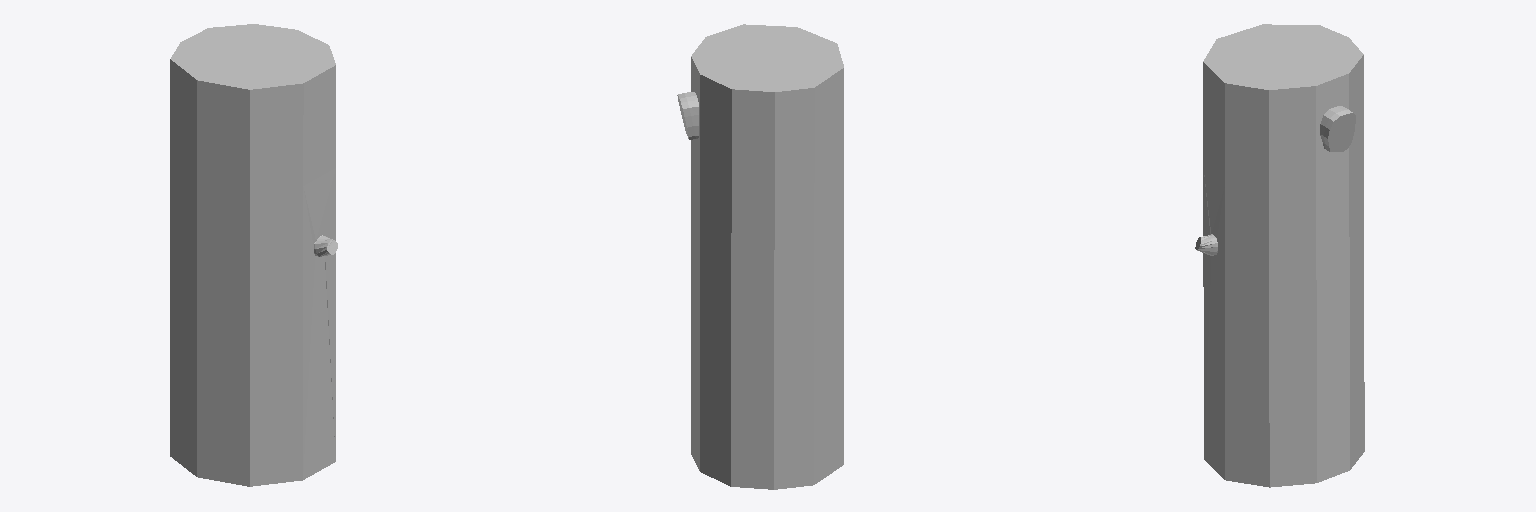
Rendered from shit_log.obj.
3 views of the same model, side by side, from view 1: azimuth 30°, elevation 25°; view 2: azimuth 150°, elevation 25°; view 3: azimuth 270°, elevation 25° (orthographic).
Visible parts, largest first — view 1: Plane; view 2: Plane; view 3: Plane.
Part boxes in pixels (bbox=[...]): Plane: bbox=[170, 24, 337, 486]; Plane: bbox=[677, 24, 843, 489]; Plane: bbox=[1195, 24, 1364, 487].
Size of the model in its own units: 1.37 by 3.86 by 1.49.